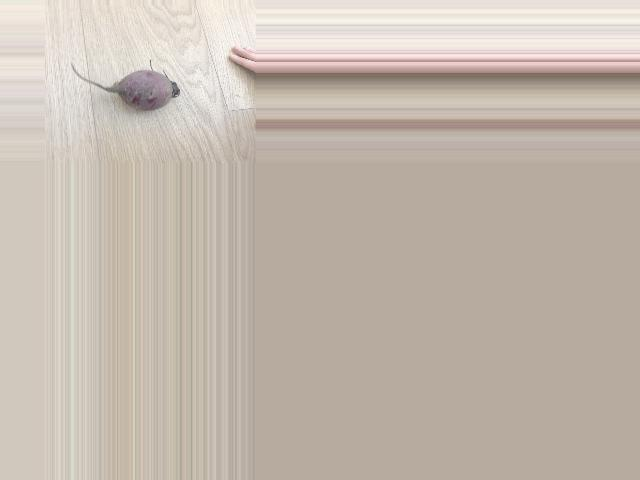beet: (70, 59, 178, 110)
